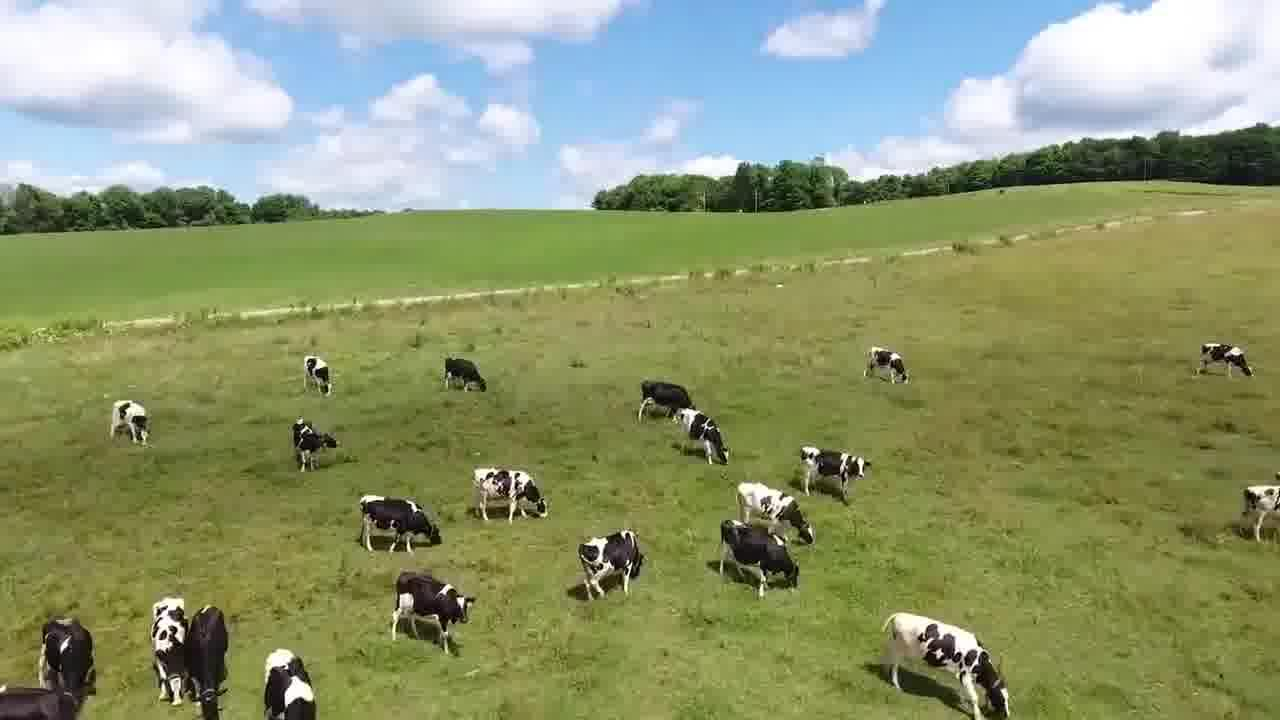cow: (877, 606, 1016, 720), (385, 564, 478, 658), (711, 516, 805, 600), (354, 487, 449, 561), (732, 478, 822, 551), (34, 611, 107, 699), (573, 523, 649, 605), (189, 601, 239, 717), (146, 593, 194, 705), (794, 438, 874, 504), (470, 463, 550, 529), (257, 643, 324, 719), (668, 409, 736, 470), (287, 416, 346, 480), (1192, 338, 1258, 387), (635, 374, 700, 423), (0, 681, 74, 720), (1242, 470, 1280, 542), (865, 341, 916, 392), (103, 396, 155, 446), (439, 355, 489, 395), (299, 352, 337, 402)
